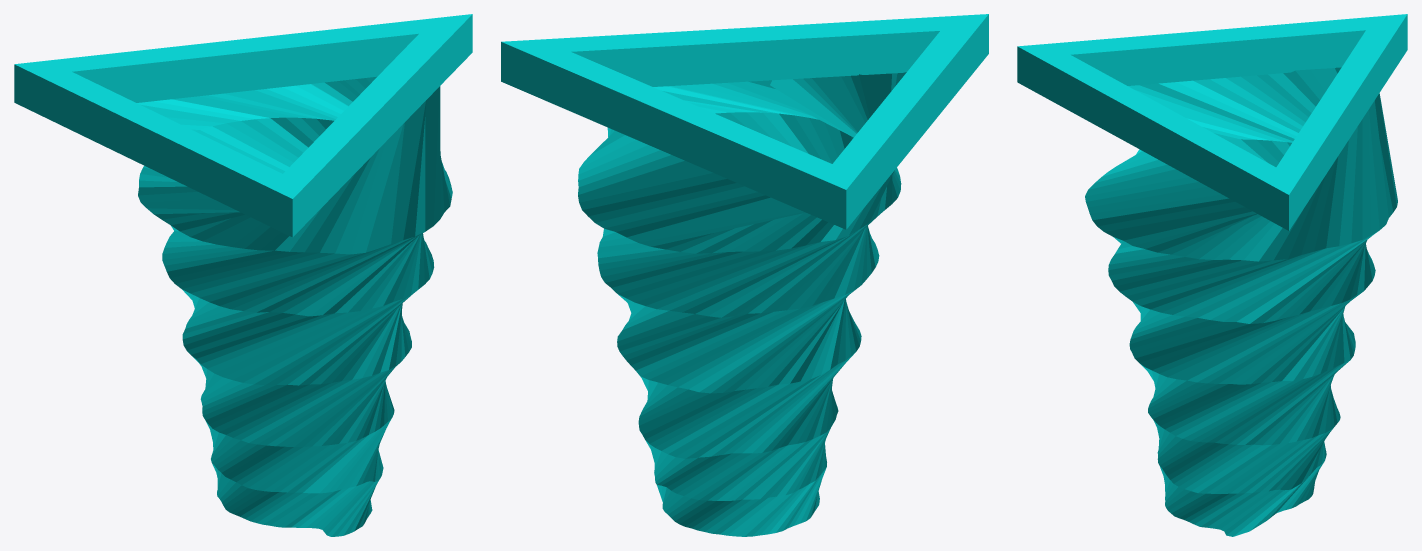
The model's file is Triangle Tornado.fbx.
3 views of the same model, side by side, from view 1: azimuth 30°, elevation 25°; view 2: azimuth 150°, elevation 25°; view 3: azimuth 270°, elevation 25° (orthographic). The views are drawn at different scales.
Parts seen in each view (by area): view 1: Triangle Button1; view 2: Triangle Button1; view 3: Triangle Button1.
Boxes of the visible parts, x1,y1,x2,y2 form: Triangle Button1: [14, 14, 472, 536]; Triangle Button1: [501, 14, 988, 536]; Triangle Button1: [1017, 14, 1407, 536].
Bounding box in the file's own units: 124 × 130 × 113.
